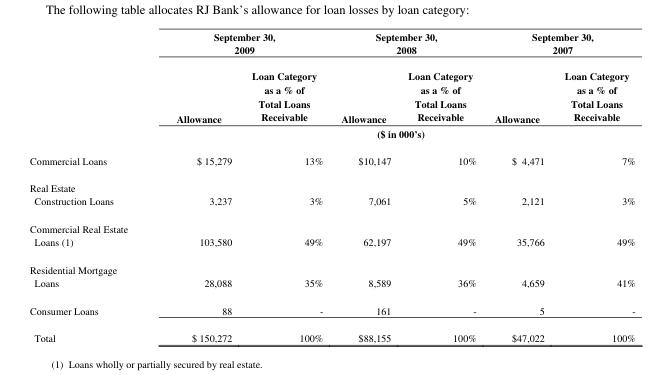table: (29, 29, 634, 344)
table column: (29, 29, 144, 344), (144, 29, 241, 344), (241, 29, 331, 344), (398, 29, 484, 344), (553, 29, 634, 344), (484, 29, 553, 344), (331, 29, 398, 344)
table column header: (29, 29, 634, 146)
table projected row header: (29, 173, 634, 193), (29, 214, 634, 234), (29, 255, 634, 275)
table row: (29, 62, 634, 125), (29, 29, 634, 62), (29, 146, 634, 173), (29, 296, 634, 323), (29, 125, 634, 146), (29, 193, 634, 214), (29, 234, 634, 255), (29, 275, 634, 296), (29, 323, 634, 344), (29, 173, 634, 193), (29, 214, 634, 234), (29, 255, 634, 275)
table spanning cell: (144, 125, 634, 146), (144, 29, 331, 62), (331, 29, 484, 62), (484, 29, 634, 62)
